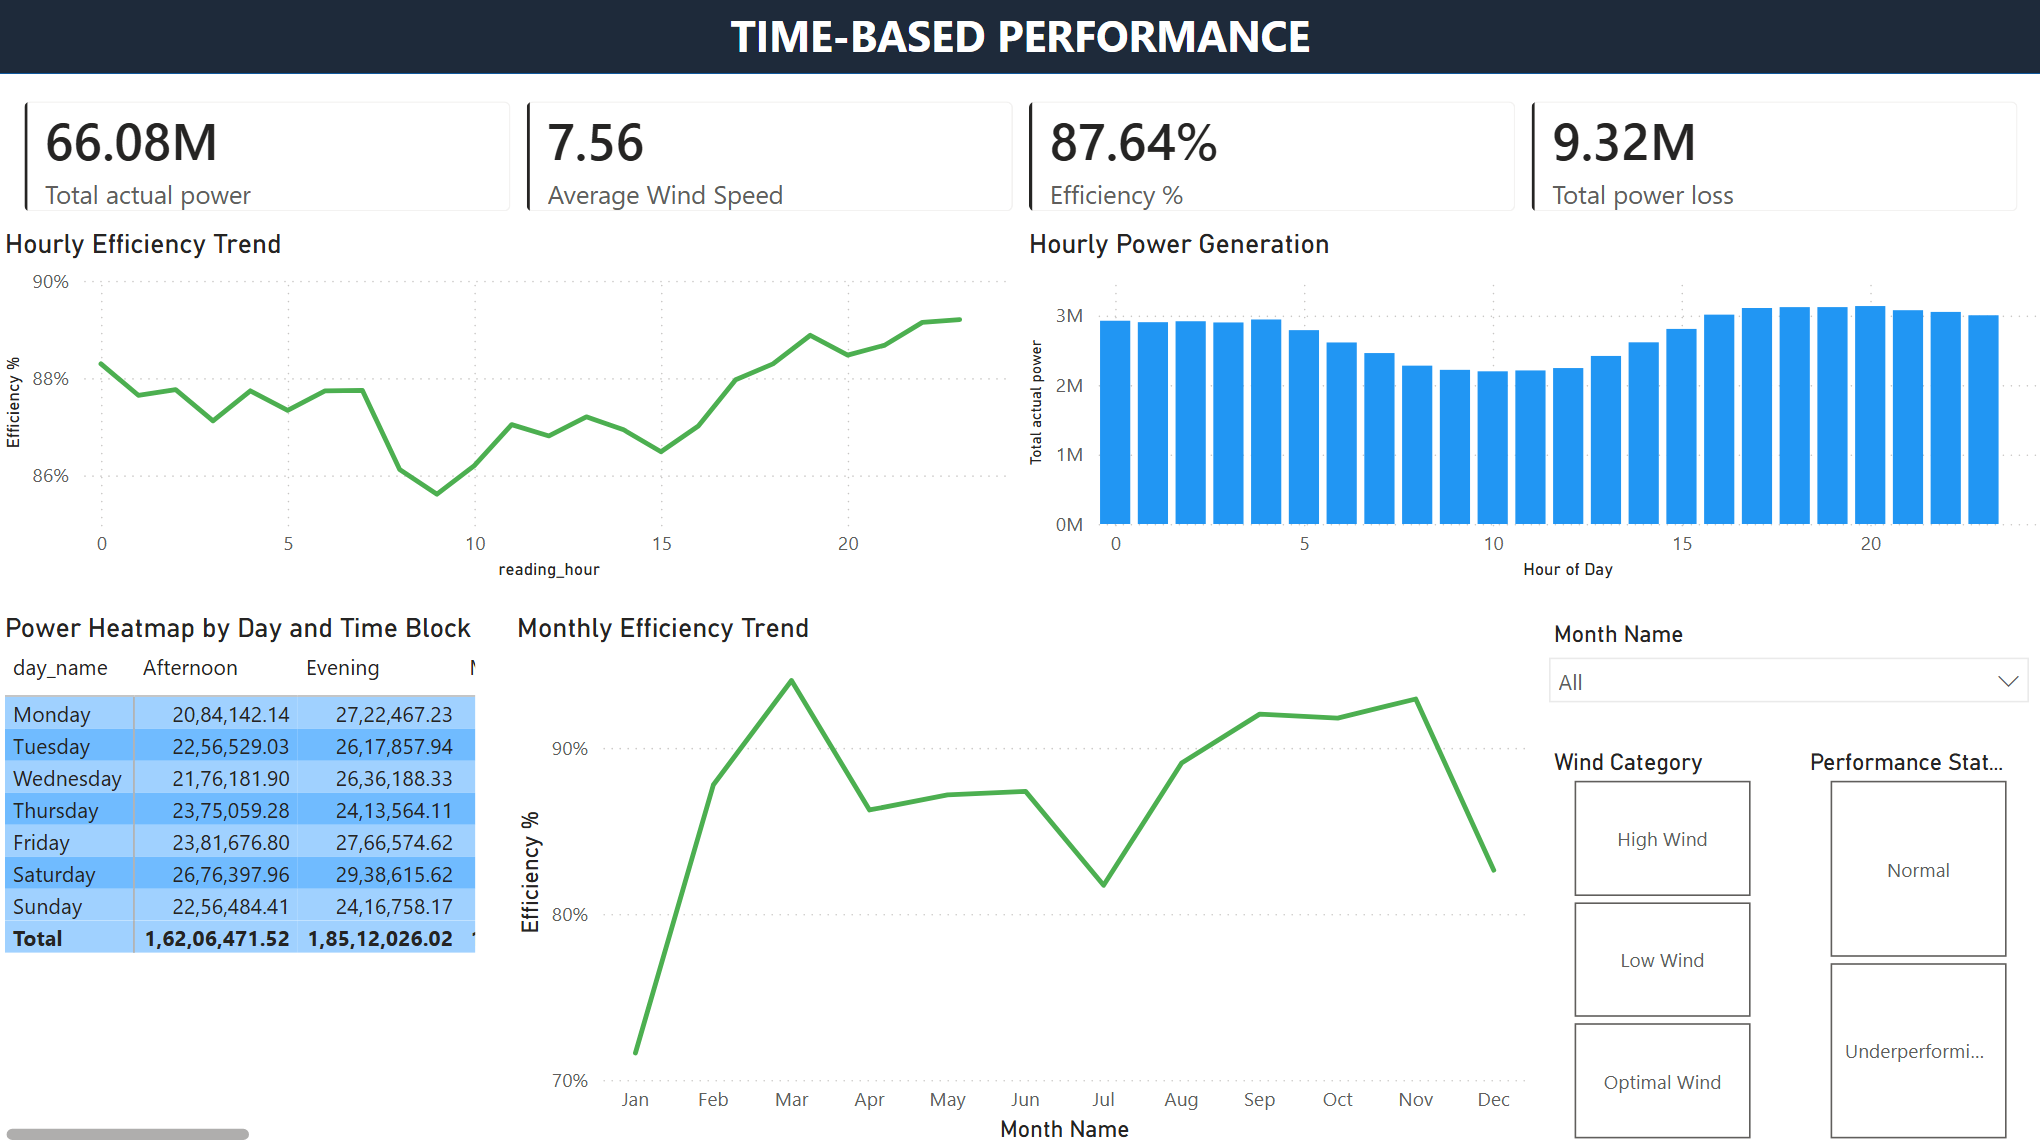

What the dashboard file says about the page in this screenshot:
{"tool":"powerbi","page":{"name":"Time-Based Performance","canvas":[1280,720],"ordinal":3},"visuals":[{"type":"shape","box":[0,0,1280,48],"z":0},{"type":"textbox","box":[368,0,544,48],"z":1000},{"type":"cardVisual","fields":{"Data":["Date Table.Total actual power","Date Table.Average Wind Speed","Date Table.Efficiency %","Date Table.Total power loss"]},"box":[0,48,1280,103],"z":2000},{"type":"lineChart","title":"Hourly Efficiency Trend","fields":{"Category":["wind_scada_analysis_202605160306.reading_hour"],"Y":["Date Table.Efficiency %"]},"box":[0,144,640,224],"z":3000},{"type":"clusteredColumnChart","title":"Hourly Power Generation","fields":{"Category":["wind_scada_analysis_202605160306.reading_hour"],"Y":["Date Table.Total actual power"]},"box":[640,144,640,224],"z":4000},{"type":"pivotTable","title":"Power Heatmap by Day and Time Block","fields":{"Values":["Date Table.Total actual power"],"Rows":["wind_scada_analysis_202605160306.day_name"],"Columns":["wind_scada_analysis_202605160306.time_block"]},"box":[0,384,304,336],"z":5000},{"type":"lineChart","title":"Monthly Efficiency Trend","fields":{"Y":["Date Table.Efficiency %"],"Category":["Date Table.Month Name"]},"box":[320,384,640,336],"z":6000},{"type":"slicer","fields":{"Values":["Date Table.Month Name"]},"box":[960,384,320,80],"z":7000},{"type":"slicer","fields":{"Values":["wind_scada_analysis_202605160306.performance_status"]},"box":[1120,464,160,256],"z":8000},{"type":"slicer","fields":{"Values":["wind_scada_analysis_202605160306.wind_category"]},"box":[960,464,160,256],"z":9000}]}

Visuals, with their boxes in screenshot pixels (x1, y1, x2, y2), scaled from the page's 1280x720 canvas onto the 2040x1148 screenshot:
shape: <box>0,0,2039,77</box>
textbox: <box>586,0,1454,77</box>
cardVisual - Date Table.Total actual power x Date Table.Average Wind Speed: <box>0,77,2039,241</box>
"Hourly Efficiency Trend" lineChart: <box>0,230,1020,587</box>
"Hourly Power Generation" clusteredColumnChart: <box>1020,230,2039,587</box>
"Power Heatmap by Day and Time Block" pivotTable: <box>0,612,484,1147</box>
"Monthly Efficiency Trend" lineChart: <box>510,612,1530,1147</box>
slicer - Date Table.Month Name: <box>1530,612,2039,740</box>
slicer - wind_scada_analysis_202605160306.performance_status: <box>1785,740,2039,1147</box>
slicer - wind_scada_analysis_202605160306.wind_category: <box>1530,740,1785,1147</box>
